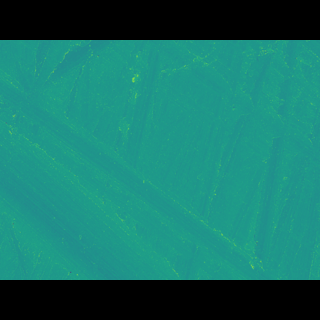Loch: (0, 91, 288, 250), (118, 68, 320, 167)
